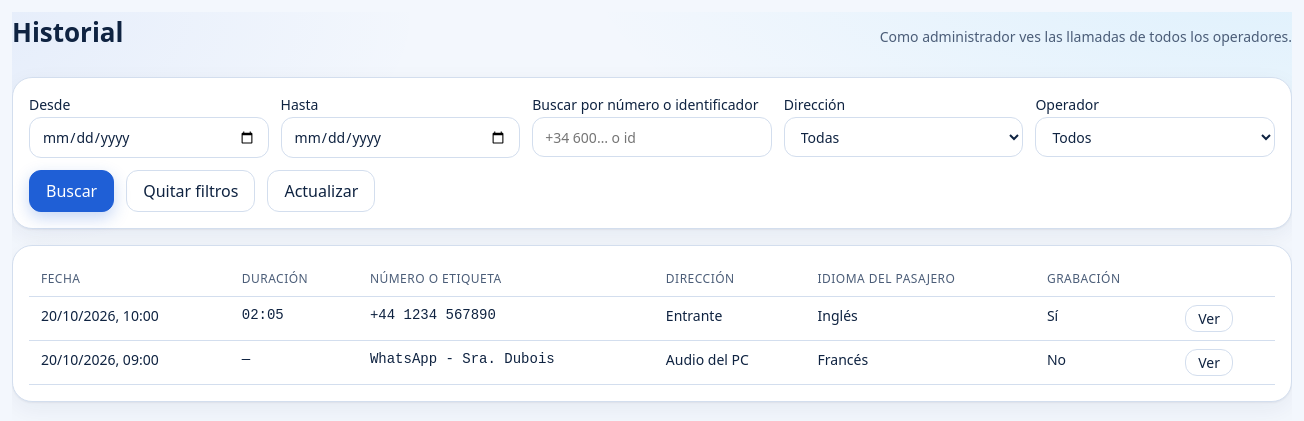
Test: <HistoryPage> › applies the filters and tells an admin the wider scope
The width and height of the screenshot is (1304, 421).
Expected: the text with test id "history-scope" shows "todos los operadores", top-left (880, 27), bottom-right (1292, 46)
Select "Audio del PC" in the dropdown labelled "Dirección" at (904, 137), box top-left (784, 117), bottom-right (1023, 157)
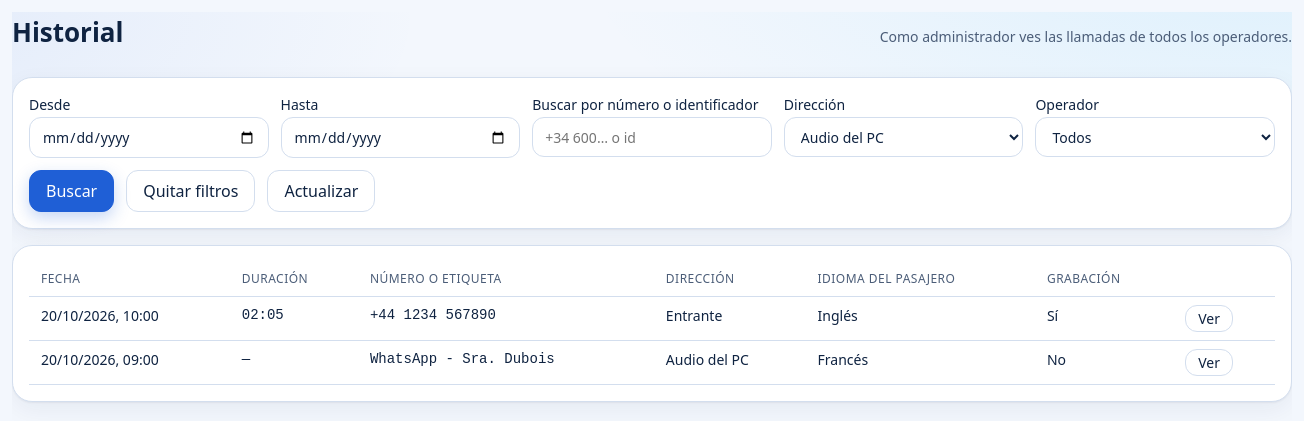
Select "Ana" in the dropdown labelled "Operador" at (1155, 137), box top-left (1035, 117), bottom-right (1275, 157)
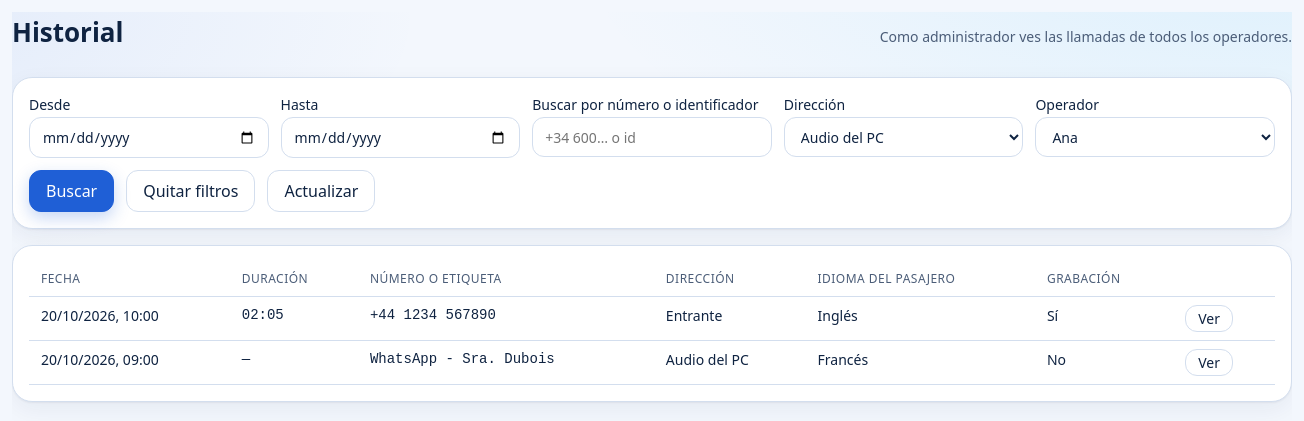
Click the button "Buscar".
click(72, 191)  # box top-left (29, 170), bottom-right (114, 212)
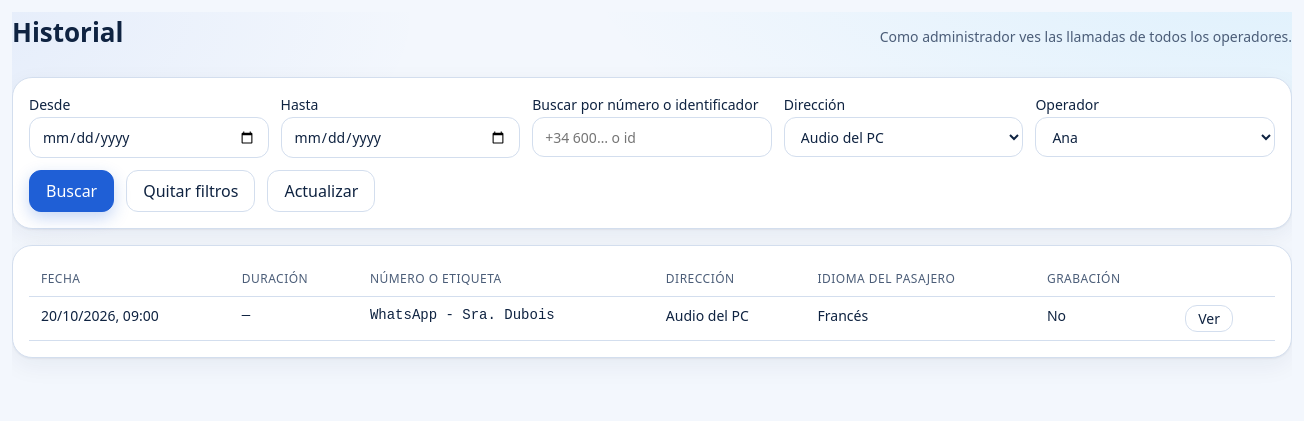
Expected: the row with test id "history-row" shows "Audio del PC", top-left (666, 306), bottom-right (749, 325)
Expected: the number of rows with test id "history-row" is 1, top-left (29, 296), bottom-right (1275, 340)
Select "Saliente" in the dropdown labelled "Dirección" at (904, 137), box top-left (784, 117), bottom-right (1023, 157)
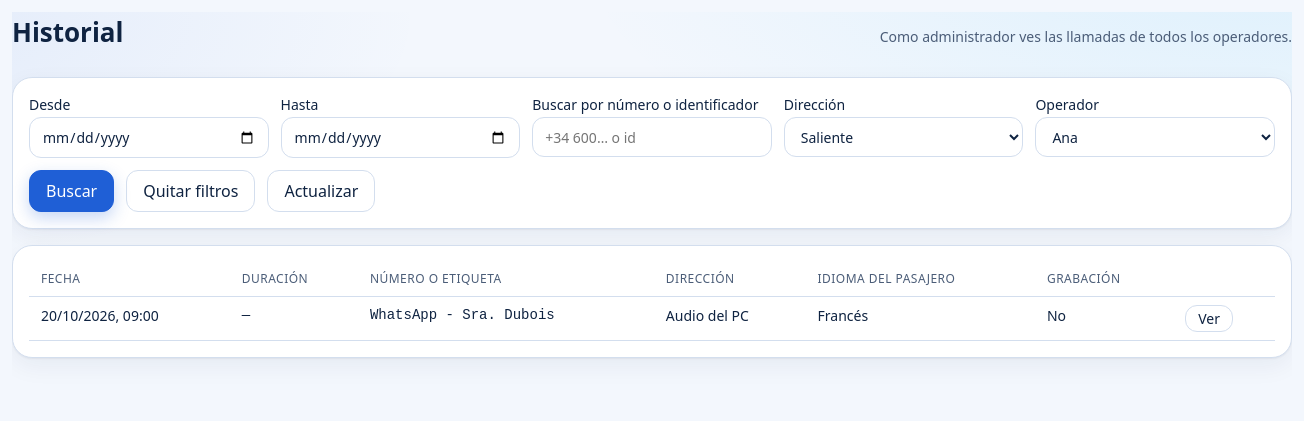
Click the button "Buscar".
click(72, 191)  # box top-left (29, 170), bottom-right (114, 212)
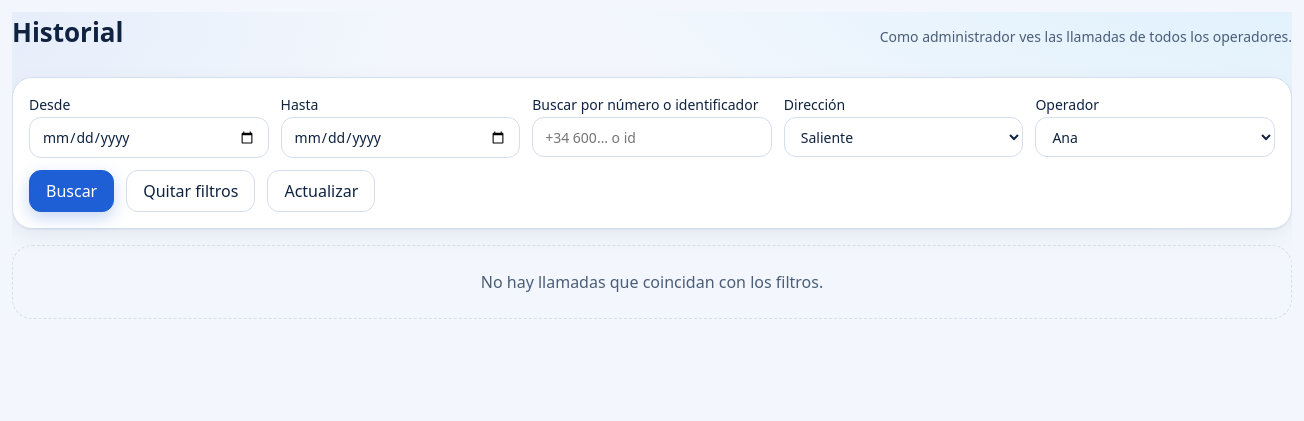
Expected: the text "No hay llamadas que coincidan con los filtros." is shown, top-left (12, 245), bottom-right (1292, 319)
